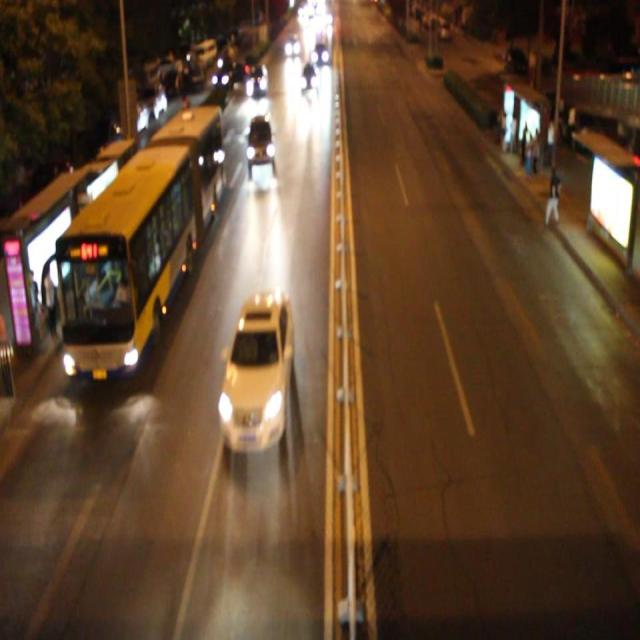car: (218, 290, 293, 456), (244, 61, 269, 99), (300, 61, 319, 92)
truck: (246, 114, 276, 168)
van: (54, 102, 219, 376)
